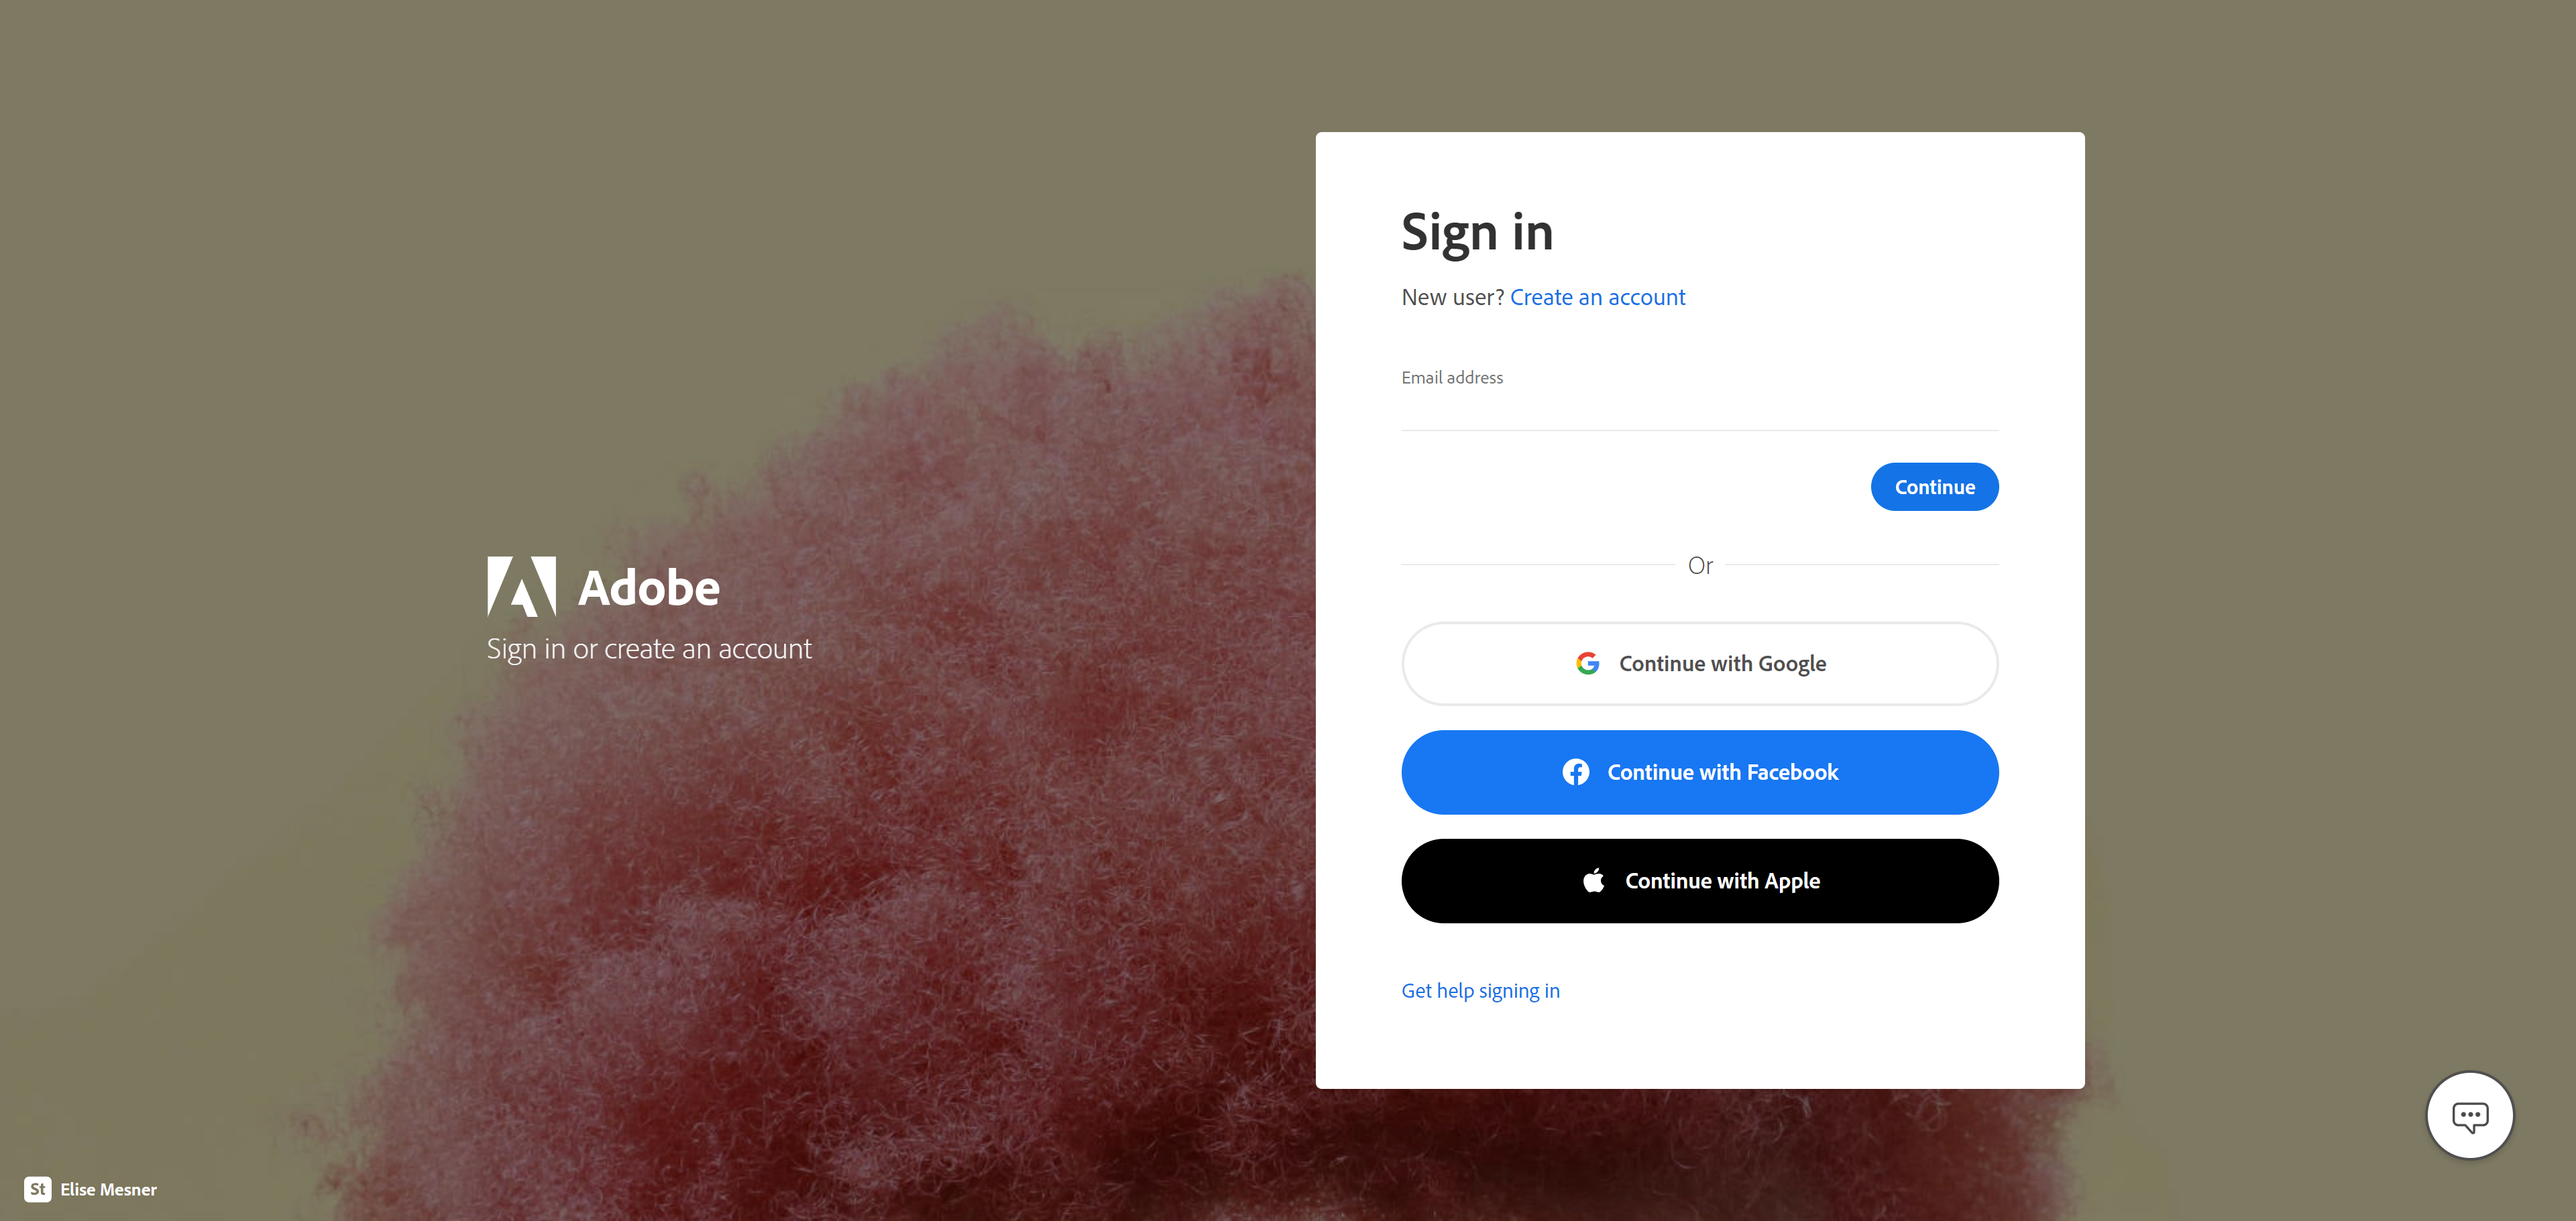login_button: (1871, 462, 1999, 511)
login_form: (1388, 355, 2012, 521)
